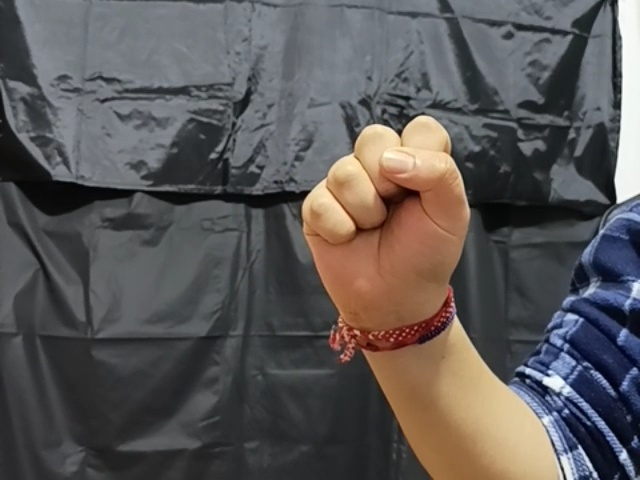S: (295, 113, 475, 309)
